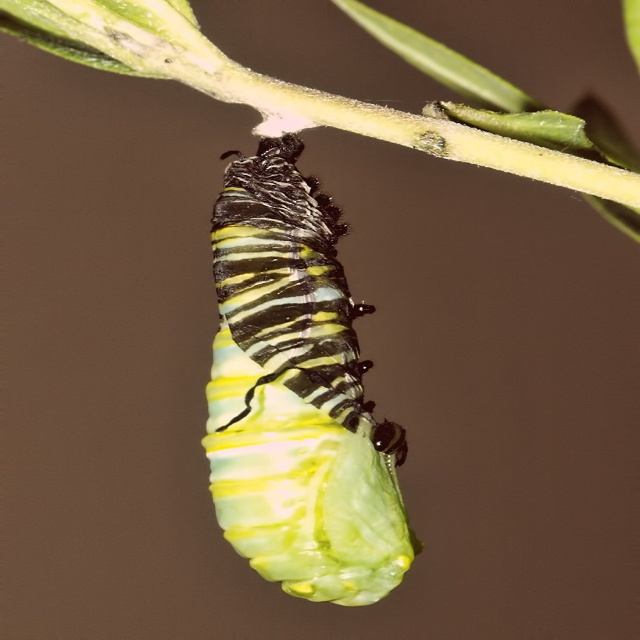Caterpillar: (201, 127, 422, 609)
